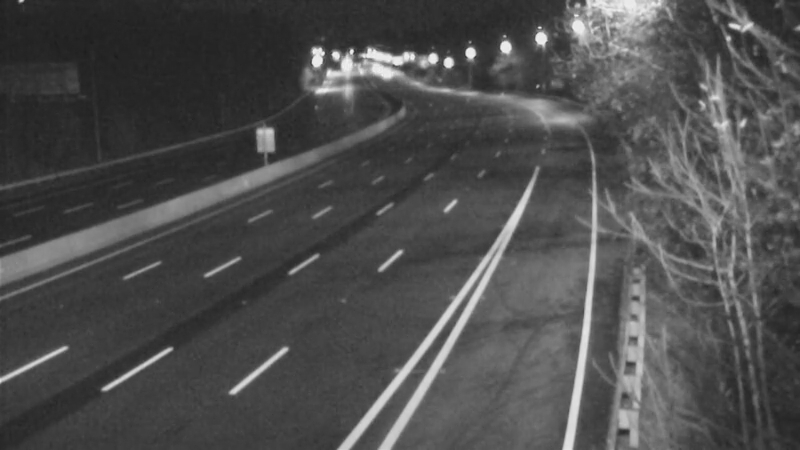vehicle: (361, 50, 411, 100)
